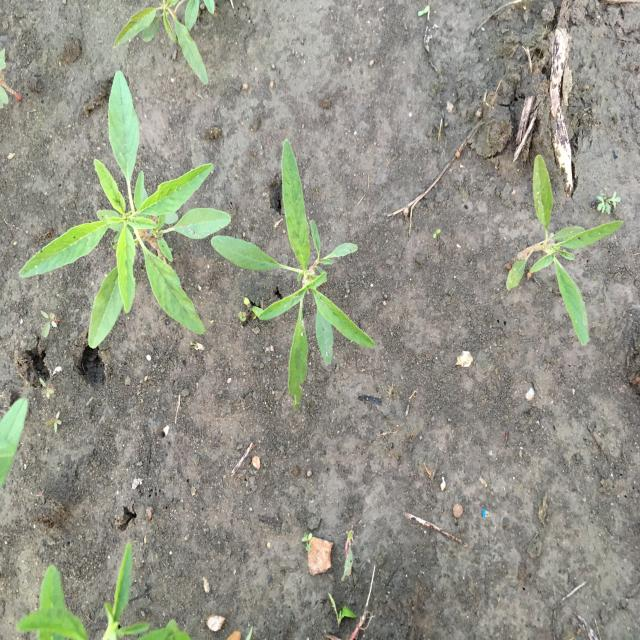Waterhemp: (16, 69, 233, 350), (209, 138, 377, 413), (505, 154, 626, 348), (111, 1, 218, 85)
